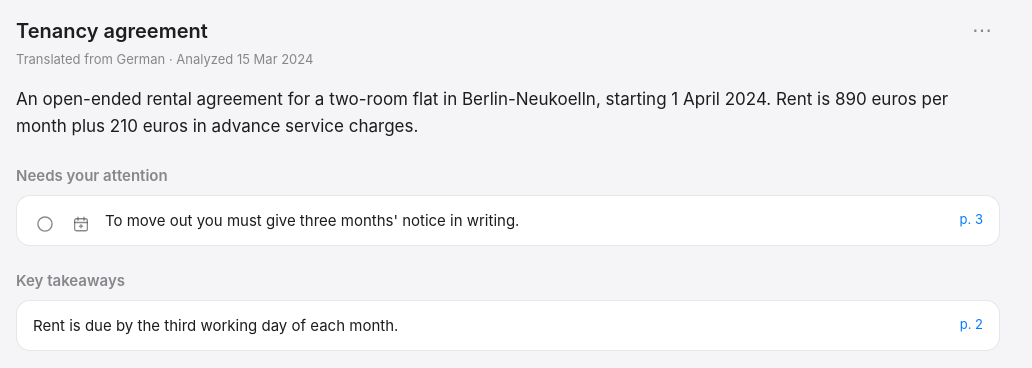
Test: ExtractionPanel › shows the model name inside the ⋯ menu
The image size is (1032, 368).
Click the button named "More actions": (982, 30) [964,16,1000,44]
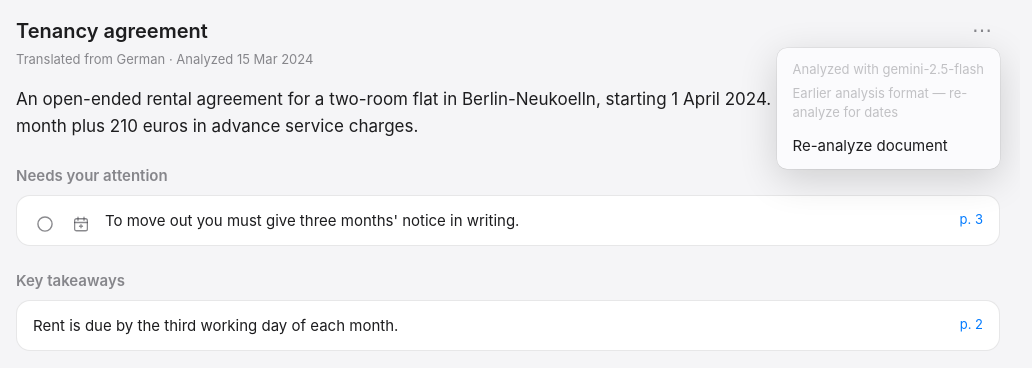
Now the text "gemini-2.5-flash" is shown, box [792,61,984,77]
Now the text "Re-analyze document" is shown, box [776,126,1000,165]
